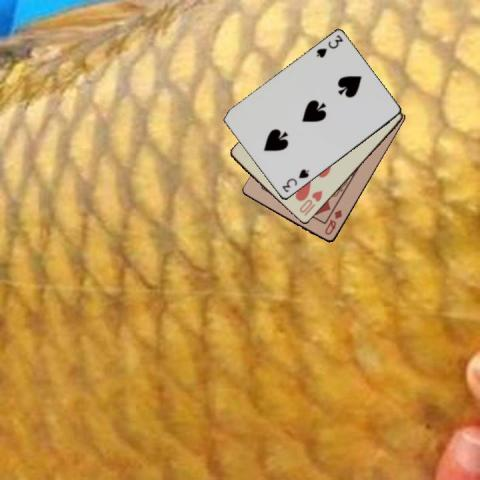10h: (296, 188, 324, 218)
3s: (279, 167, 311, 194), (313, 32, 344, 59)
Qd: (321, 206, 344, 236)
